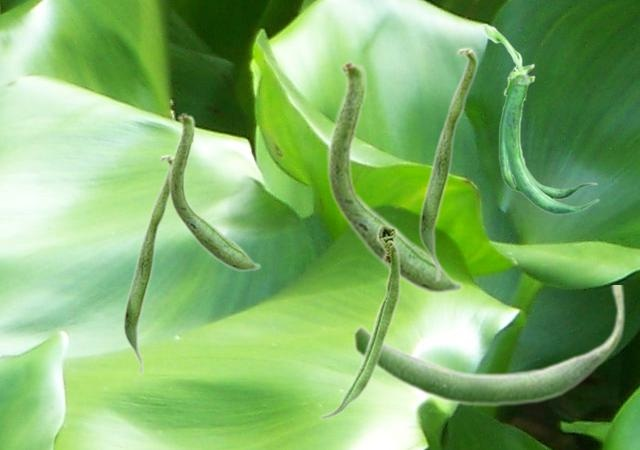french_bean: (352, 285, 625, 407), (326, 58, 463, 294), (481, 23, 598, 214), (318, 223, 400, 419), (168, 111, 260, 271), (418, 46, 477, 282), (122, 153, 172, 376)
